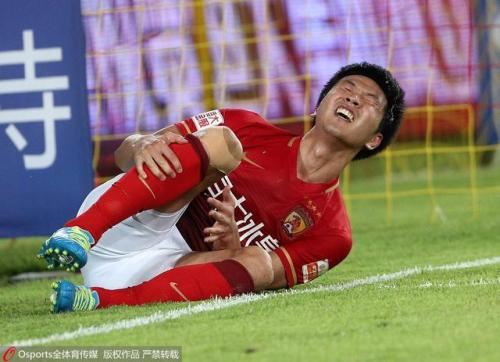fall: (33, 40, 418, 320)
